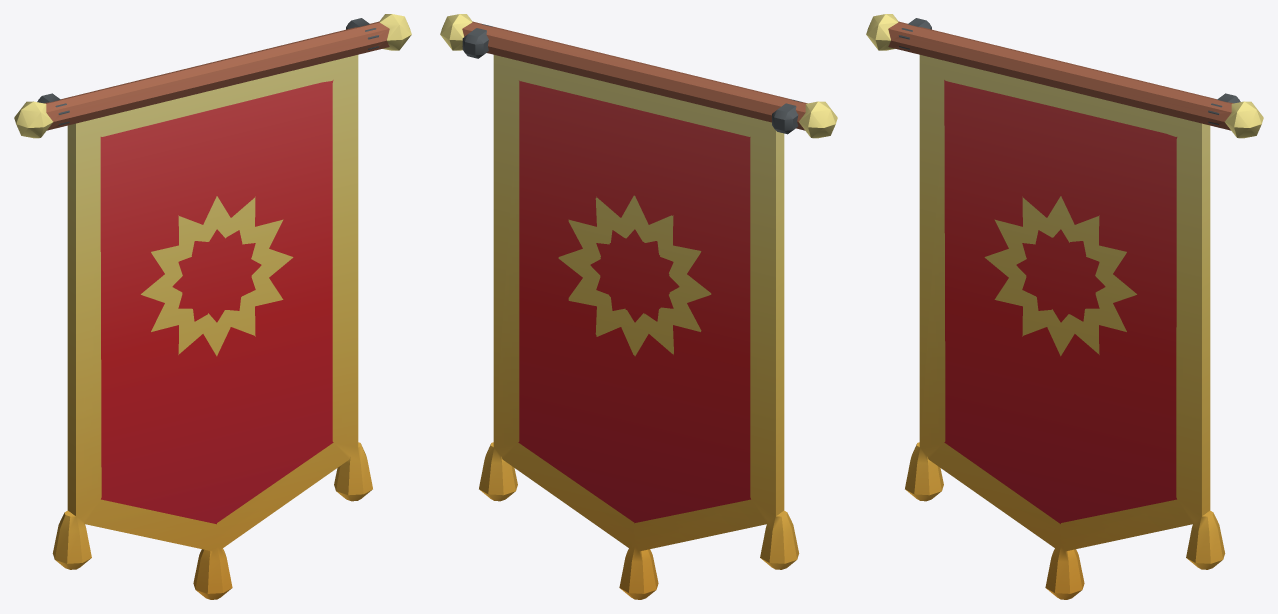
The model's file is tapestry_red.glb.
3 renders of one model, left to right at view 1: azimuth 30°, elevation 25°; view 2: azimuth 150°, elevation 25°; view 3: azimuth 330°, elevation 25°, orthographic.
Parts seen in each view (by area): view 1: tapestry_red; view 2: tapestry_red; view 3: tapestry_red.
Boxes of the visible parts, left/top/right/bottom form: tapestry_red: left=14, top=14, right=411, bottom=599; tapestry_red: left=440, top=14, right=837, bottom=599; tapestry_red: left=866, top=14, right=1263, bottom=599.
Bounding box in the file's own units: 2.24 × 2.93 × 0.24.
Materials: 1 (1 with a texture image).
